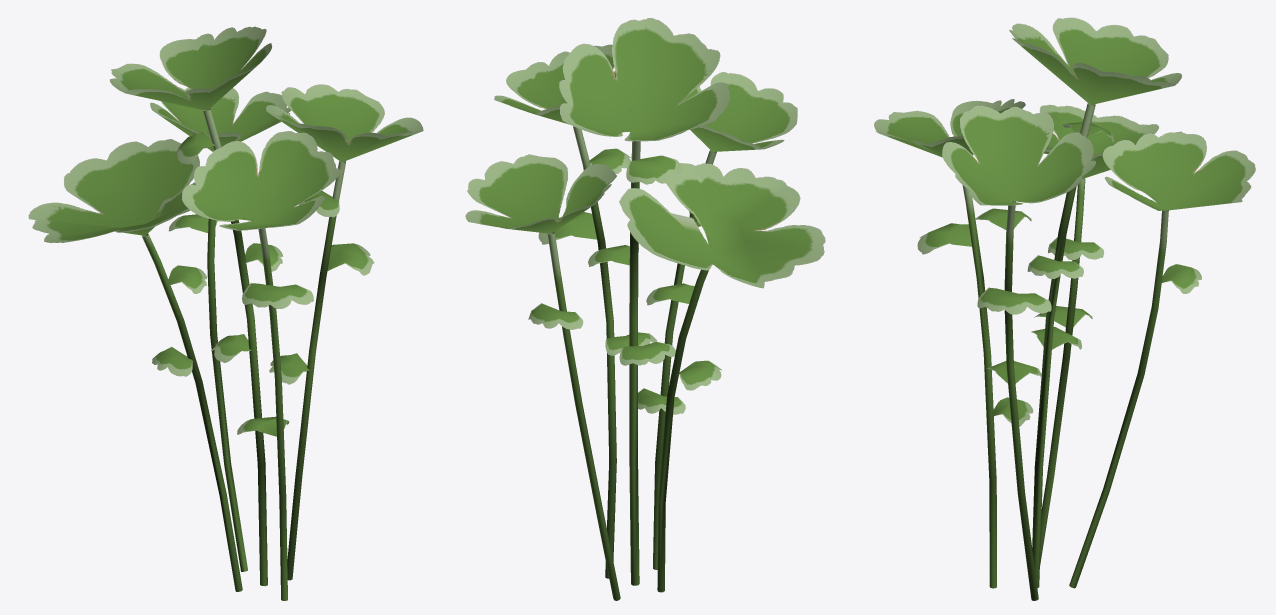
File: Clover_2__go_ruins.glb
3 renders of one model, left to right at view 1: azimuth 30°, elevation 25°; view 2: azimuth 150°, elevation 25°; view 3: azimuth 270°, elevation 25°, orthographic. The views are drawn at different scales.
Parts seen in each view (by area): view 1: Clover_2; view 2: Clover_2; view 3: Clover_2.
Boxes of the visible parts, x1,y1,x2,y2 form: Clover_2: (28,26,423,600); Clover_2: (465,18,825,600); Clover_2: (874,17,1255,600).
Bounding box in the file's own units: 0.8511 × 1.26 × 0.8366.
1 material, 1 textured.
